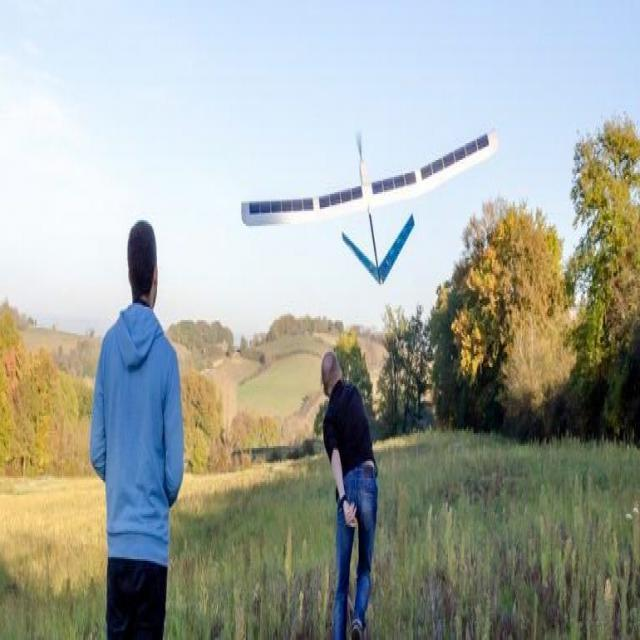iha: (208, 114, 497, 277)
